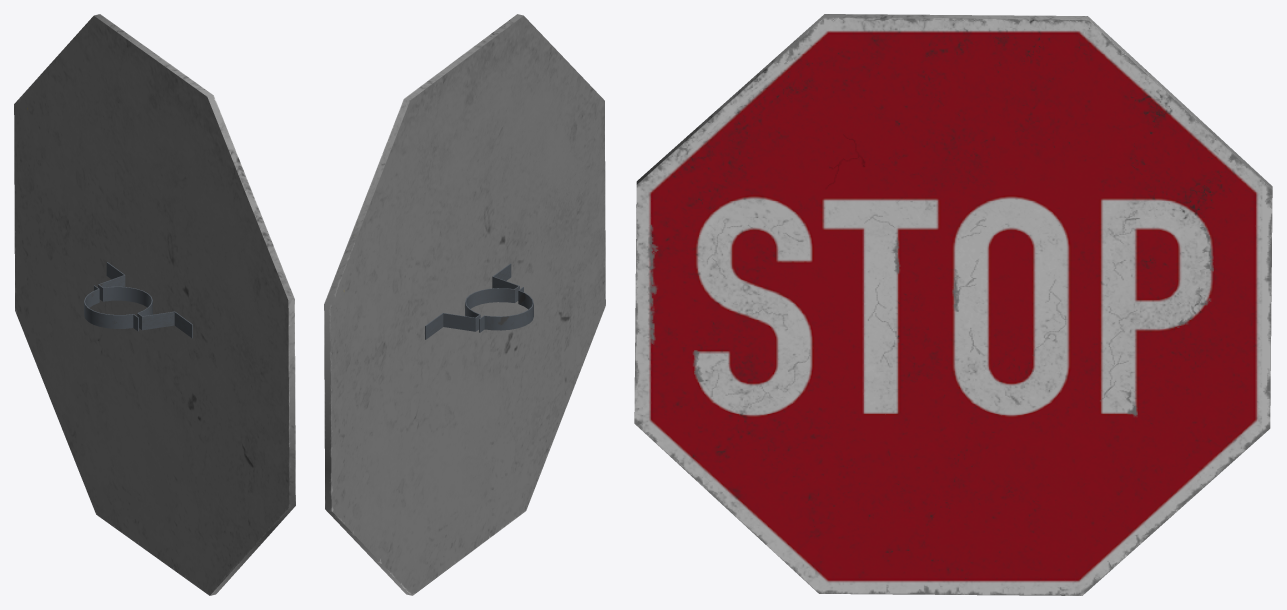
Rendered from Sign-Stop.fbx.
3 views of the same model, side by side, from view 1: azimuth 30°, elevation 25°; view 2: azimuth 150°, elevation 25°; view 3: azimuth 270°, elevation 25° (orthographic). The views are drawn at different scales.
Parts seen in each view (by area): view 1: Sign_Stop; view 2: Sign_Stop; view 3: Sign_Stop.
Boxes of the visible parts, x1,y1,x2,y2 form: Sign_Stop: [14, 14, 295, 595]; Sign_Stop: [324, 14, 605, 595]; Sign_Stop: [634, 14, 1272, 595].
Bounding box in the file's own units: 9.63 × 66.76 × 66.76.
